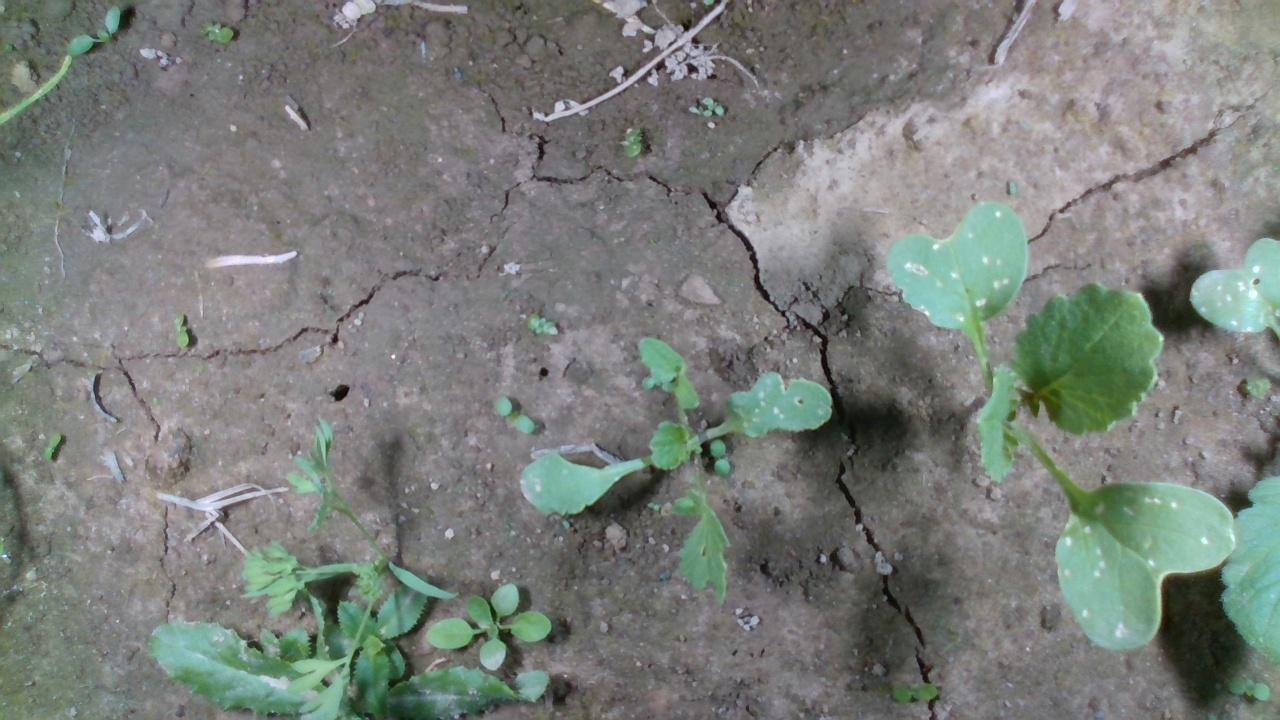weed: (490, 394, 537, 434), (1222, 672, 1272, 703), (888, 680, 938, 701), (197, 18, 235, 43), (708, 436, 730, 478), (523, 312, 561, 336), (621, 124, 642, 161), (170, 312, 189, 349), (41, 429, 62, 460)
